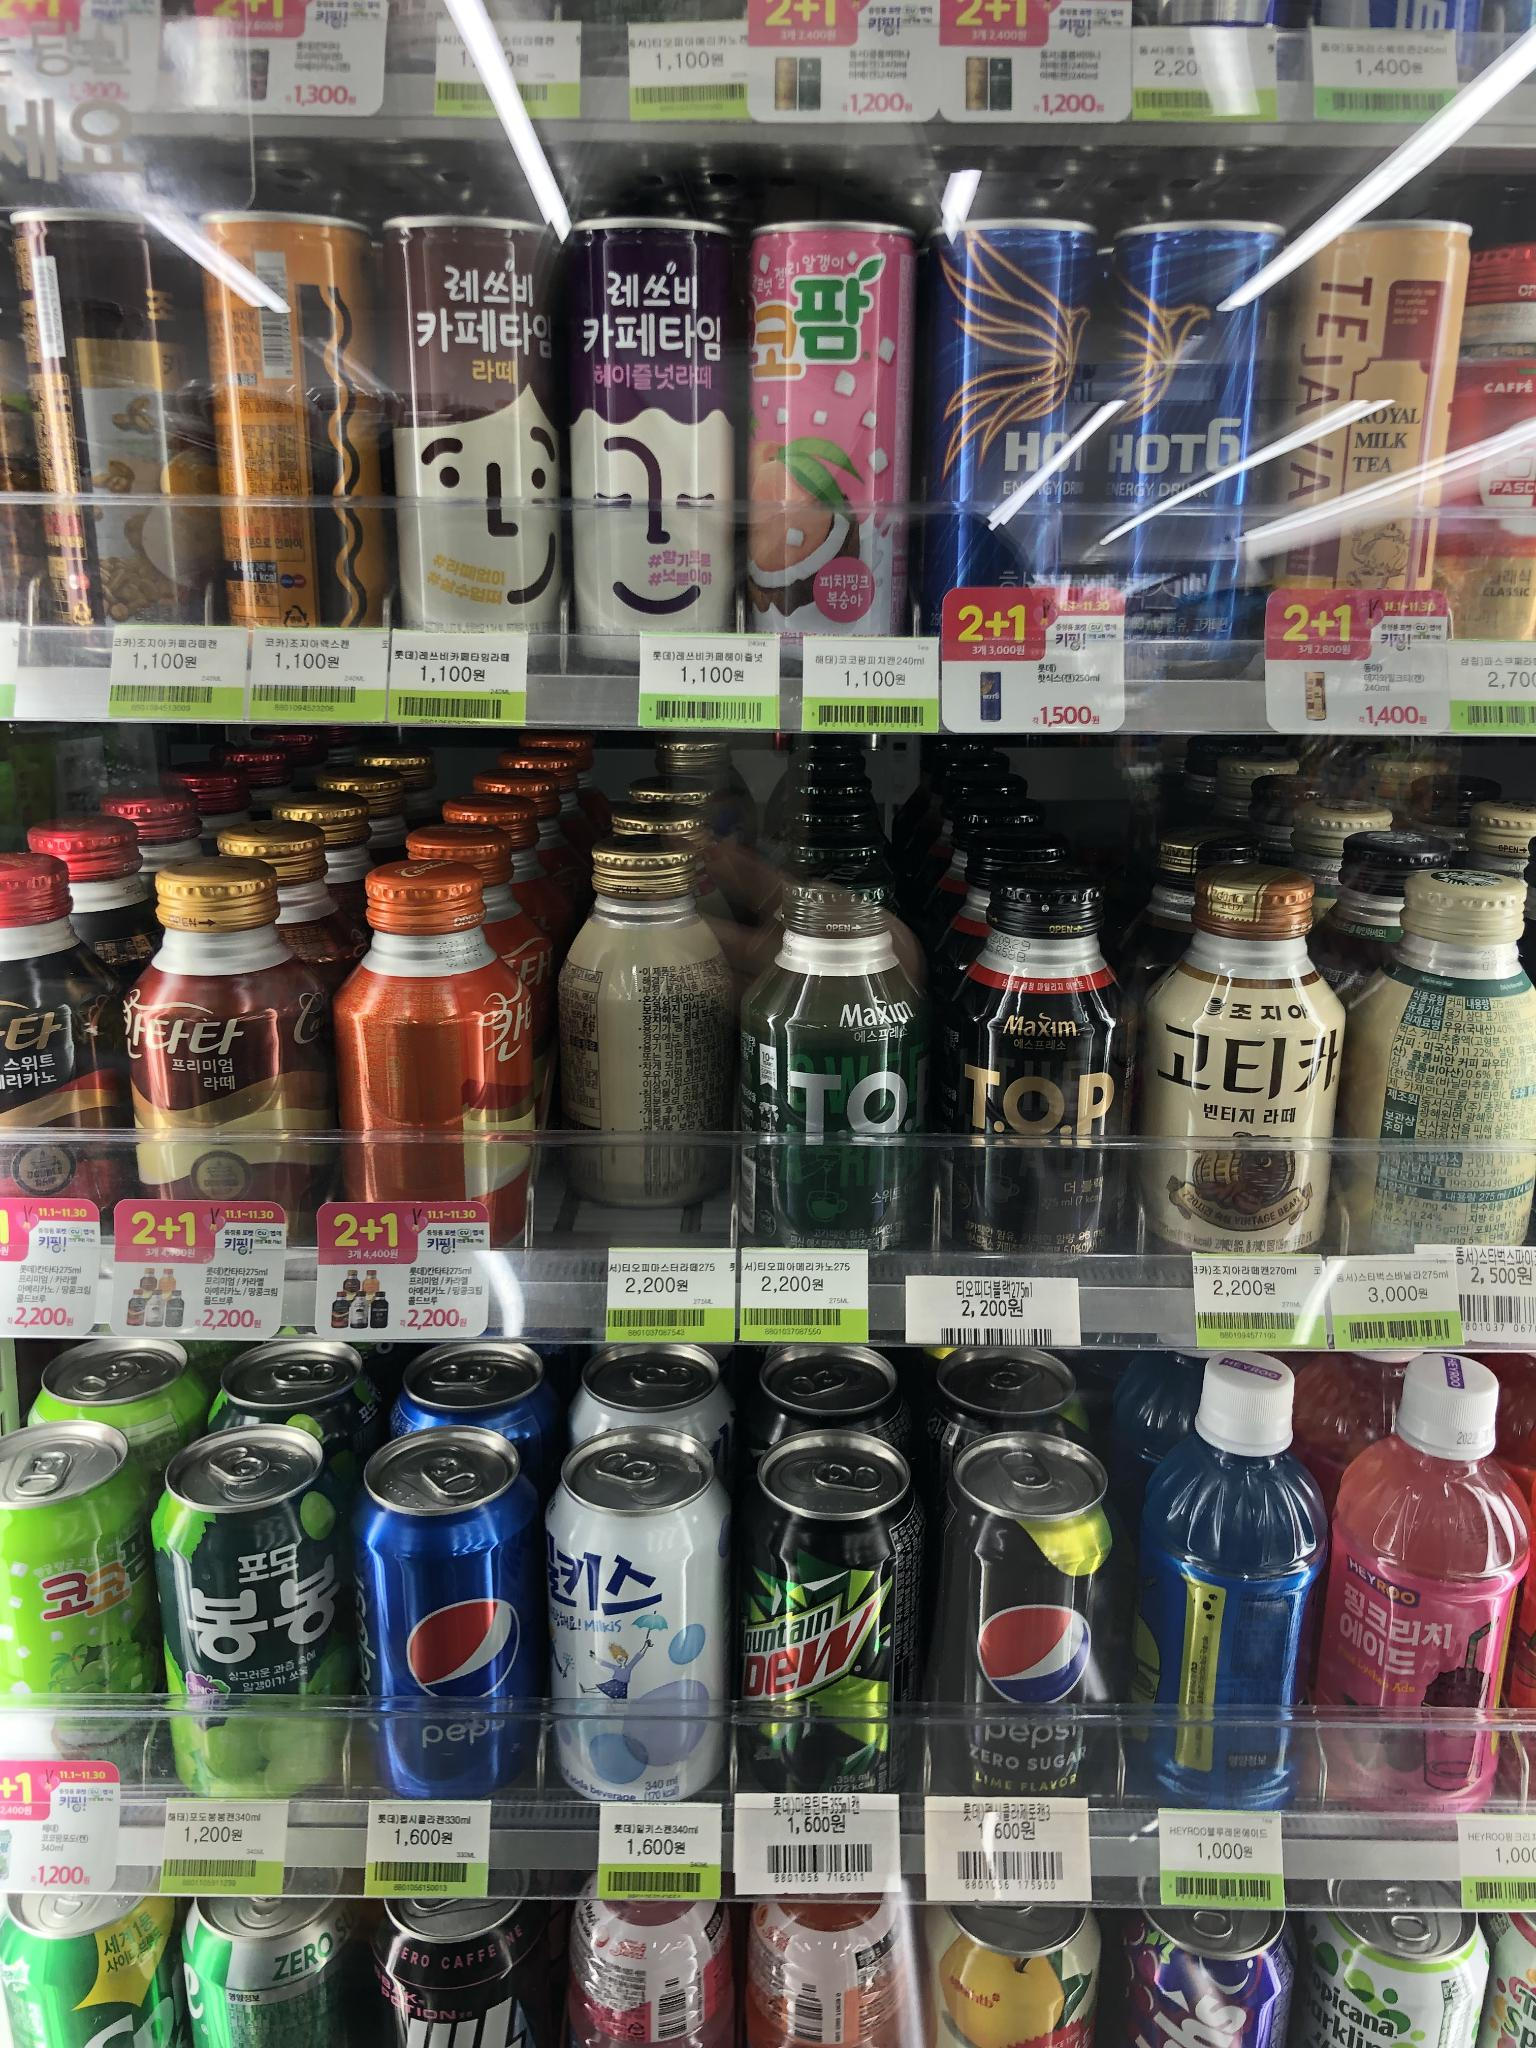TOP_black: (921, 843, 1137, 1287)
hotsix_org: (1083, 216, 1258, 682), (923, 203, 1107, 645)
pepsi_zero: (933, 1427, 1125, 1813)
